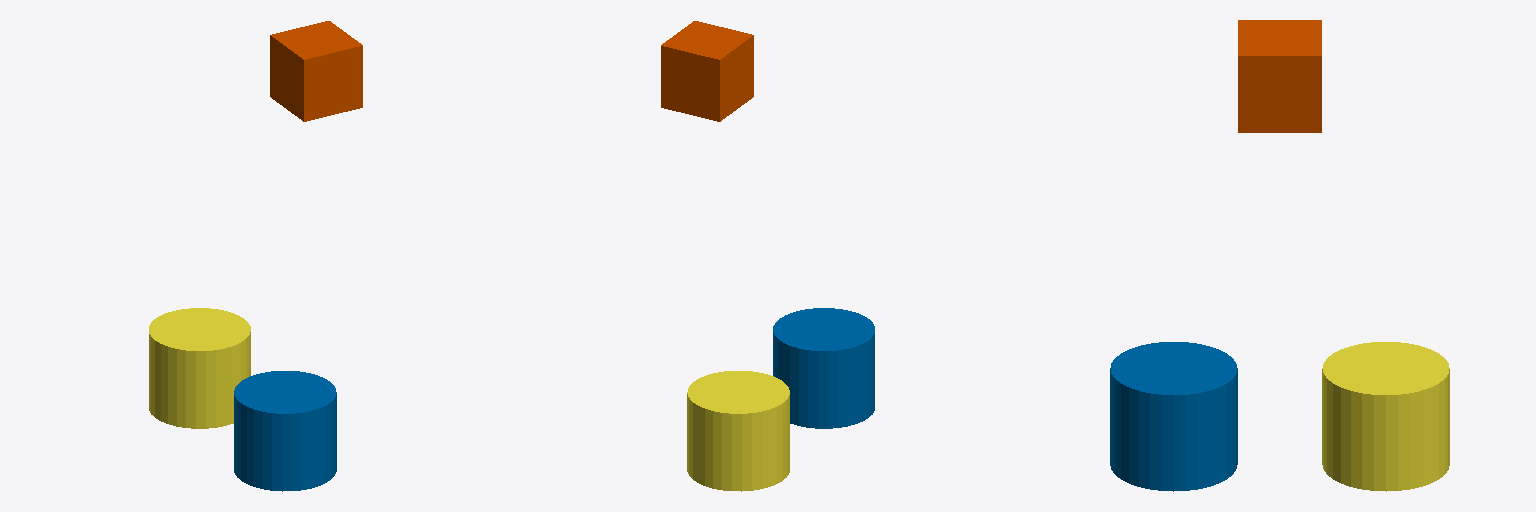
robot.urdf — navel_robot:
<?xml version="1.0"?>
<robot name="navel_robot">

  <link name="base_link"/>
  <link name="left_wheel_link">
  </link>

  <joint name="left wheel" type="continuous">
    <parent link="base_link"/>
    <child link="left_wheel_link"/>
    <origin xyz="0 0.165 0" rpy="0 0 0"/>
    <axis xyz="0 1 0"/>
  </joint>

  <link name="right_wheel_link">
  </link>

  <joint name="right wheel" type="continuous">
    <parent link="base_link"/>
    <child link="right_wheel_link"/>
    <origin xyz="0 -0.165 0" rpy="0 0 0"/>
    <axis xyz="0 1 0"/>
  </joint>
  <link name="lidar_left_link">
    <visual>
      <geometry>
        <cylinder radius="0.03" length="0.05"/>
      </geometry>
    </visual>
  </link>

  <joint name="lidar_left_joint" type="fixed">
    <parent link="base_link"/>
    <child link="lidar_left_link"/>
    <origin xyz="0.10 0.05 0.20" rpy="0 0 0"/>
  </joint>
  <link name="lidar_right_link">
    <visual>
      <geometry>
        <cylinder radius="0.03" length="0.05"/>
      </geometry>
    </visual>
  </link>

  <joint name="lidar_right_joint" type="fixed">
    <parent link="base_link"/>
    <child link="lidar_right_link"/>
    <origin xyz="0.10 -0.05 0.20" rpy="0 0 0"/>
  </joint>
  <link name="head_camera_link">
    <visual>
      <geometry>
        <box size="0.04 0.04 0.04"/>
      </geometry>
    </visual>
  </link>

  <joint name="head_camera_joint" type="fixed">
    <parent link="base_link"/>
    <child link="head_camera_link"/>
    <origin xyz="0.15 0.00 0.40" rpy="0 0 0"/>
  </joint>

  <webots>
    <device reference="left wheel sensor" type="PositionSensor">
      <ros>
        <topicName>/left_wheel_sensor</topicName>
        <alwaysOn>true</alwaysOn>
      </ros>
    </device>

    <device reference="right wheel sensor" type="PositionSensor">
      <ros>
        <topicName>/right_wheel_sensor</topicName>
        <alwaysOn>true</alwaysOn>
      </ros>
    </device>


    <device reference="left wheel" type="RotationalMotor">
      <ros>
        <topicName>/left_wheel/velocity</topicName>
      </ros>
    </device>

    <device reference="right wheel" type="RotationalMotor">
      <ros>
        <topicName>/right_wheel/velocity</topicName>
      </ros>
    </device>

    <device reference="head_camera" type="Camera">
      <ros>
        <topicName>/head_camera</topicName>
        <frameName>head_camera_link</frameName>
        <alwaysOn>true</alwaysOn>
      </ros>
    </device>

    <device reference="lidar_right" type="Lidar">
      <ros>
        <topicName>/lidar_right</topicName>
        <frameName>lidar_right_link</frameName>
        <publishLaserScan>true</publishLaserScan>
        <alwaysOn>true</alwaysOn>
      </ros>
    </device>

    <device reference="lidar_left" type="Lidar">
      <ros>
        <topicName>/lidar_left</topicName>
        <frameName>lidar_left_link</frameName>
        <publishLaserScan>true</publishLaserScan>
        <alwaysOn>true</alwaysOn>
      </ros>
    </device>

    <plugin type="my_package.pedestrian_driver.PedestrianDriver">
      <robot_name>person_2</robot_name>
    </plugin>
  </webots>

</robot>

--- Facts derived from the render (not from the file) ---
Views: 3 orthographic renders of the robot side by side, from view 1: azimuth 30°, elevation 25°; view 2: azimuth 150°, elevation 25°; view 3: azimuth 270°, elevation 25°.
Robot: navel_robot — 6 links, 5 joints (2 continuous, 3 fixed); root link base_link; default pose: all joints at 0.
Visible links, largest first — view 1: lidar_right_link, lidar_left_link, head_camera_link; view 2: lidar_left_link, lidar_right_link, head_camera_link; view 3: lidar_left_link, lidar_right_link, head_camera_link.
Link boxes in pixels (<box>): lidar_right_link: <box>234,371,336,491</box>; lidar_left_link: <box>149,308,250,428</box>; head_camera_link: <box>270,21,362,121</box>; lidar_left_link: <box>687,371,789,491</box>; lidar_right_link: <box>773,308,874,428</box>; head_camera_link: <box>661,21,753,121</box>; lidar_left_link: <box>1322,342,1449,491</box>; lidar_right_link: <box>1110,342,1237,491</box>; head_camera_link: <box>1238,20,1321,132</box>.
Bounding box of the posed robot: 0.1 × 0.16 × 0.245 m (x, y, z).
Geometry: primitives only (box / cylinder / sphere), no mesh files.
